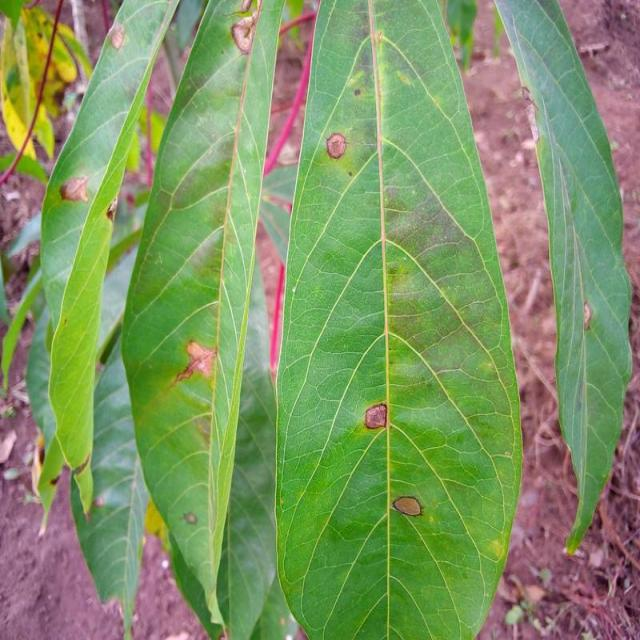cassava leaf: (274, 0, 524, 638), (121, 0, 286, 637), (494, 0, 634, 556), (38, 0, 181, 521)
